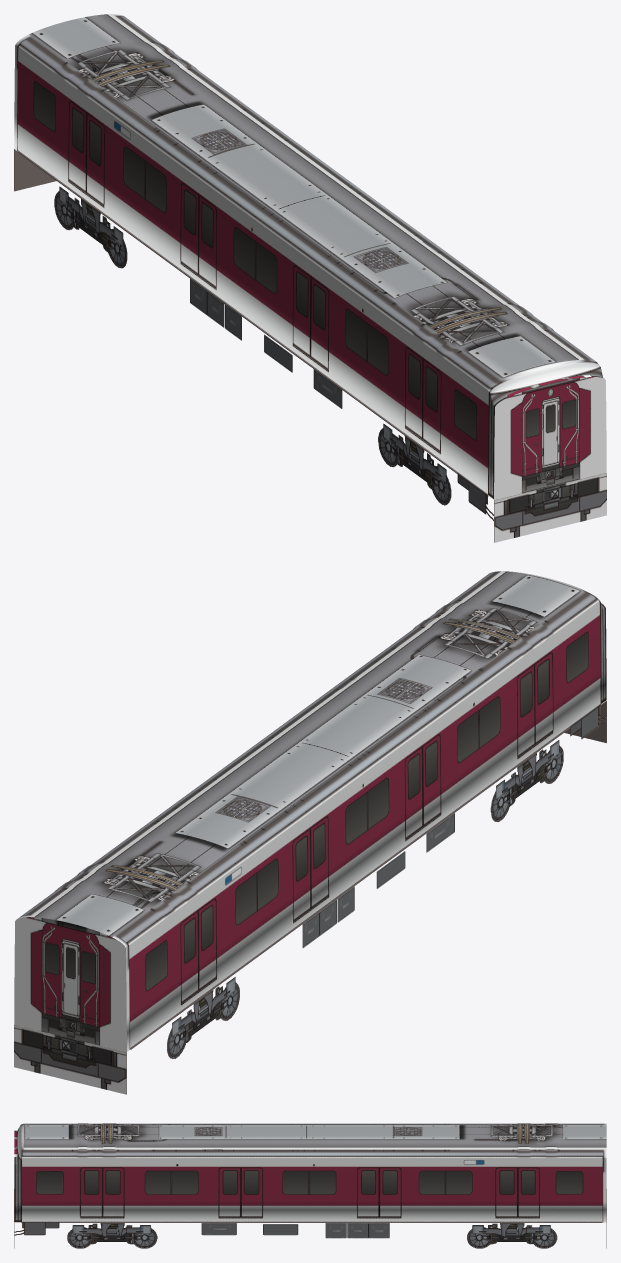
The model's file is car2.glb.
3 renders of one model, top to bottom at view 1: azimuth 30°, elevation 25°; view 2: azimuth 150°, elevation 25°; view 3: azimuth 270°, elevation 25°, orthographic. The views are drawn at different scales.
Visible parts, largest first — view 1: kintetsu-9200-car2; view 2: kintetsu-9200-car2; view 3: kintetsu-9200-car2.
Part boxes in pixels (<box>): kintetsu-9200-car2: <box>14,14,606,542</box>; kintetsu-9200-car2: <box>14,571,606,1094</box>; kintetsu-9200-car2: <box>14,1123,606,1248</box>.
Size of the model in its own units: 2.8 by 3.76 by 20.69.
Materials: 8 (7 with a texture image).
